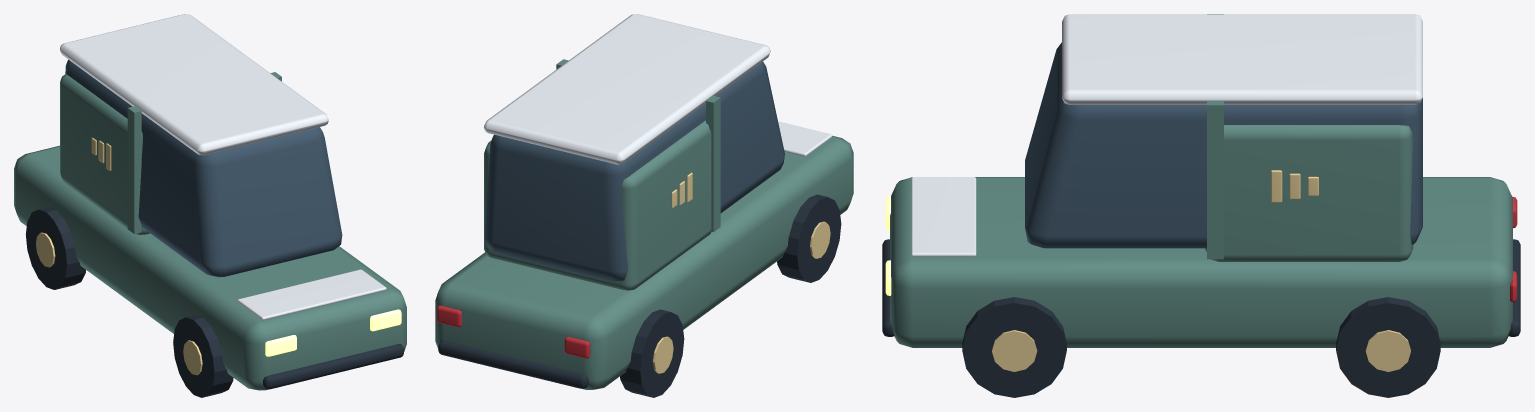
The model's file is courier.glb.
The picture shows the model from 3 angles, left to right: view 1: azimuth 30°, elevation 25°; view 2: azimuth 150°, elevation 25°; view 3: azimuth 270°, elevation 25°; orthographic projection. The views are drawn at different scales.
Visible parts, largest first — view 1: Exterior; view 2: Exterior; view 3: Exterior.
Boxes of the visible parts, x1,y1,x2,y2 form: Exterior: (14,14,406,397); Exterior: (435,14,853,397); Exterior: (882,14,1520,397).
Size of what is drawn, in the model's own units: 1.9 by 2.26 by 4.51.
